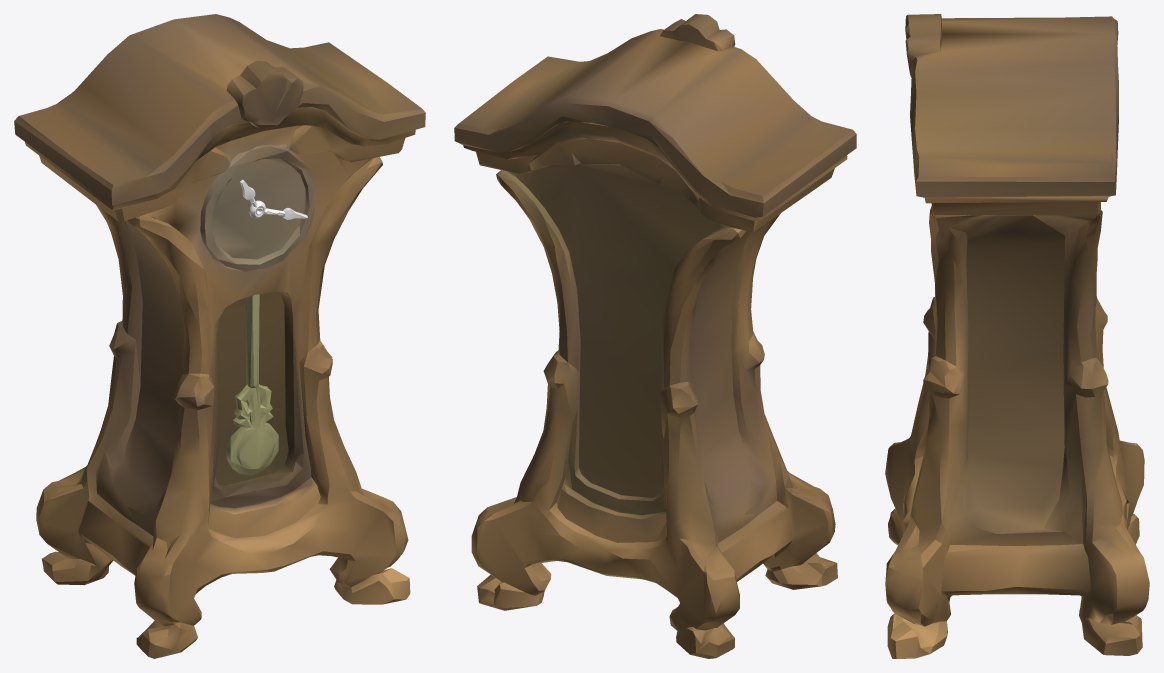
Rendered from Clock01.fbx.
3 views of the same model, side by side, from view 1: azimuth 30°, elevation 25°; view 2: azimuth 150°, elevation 25°; view 3: azimuth 270°, elevation 25° (orthographic). The views are drawn at different scales.
Parts seen in each view (by area): view 1: ClockBody01, ClockPendulum01; view 2: ClockBody01; view 3: ClockBody01.
Boxes of the visible parts, left/top/right/bottom form: ClockBody01: left=14, top=14, right=425, bottom=658; ClockPendulum01: left=226, top=294, right=278, bottom=475; ClockBody01: left=454, top=14, right=856, bottom=658; ClockBody01: left=885, top=14, right=1149, bottom=658.
Size of the model in its own units: 132 by 220 by 90.96.
